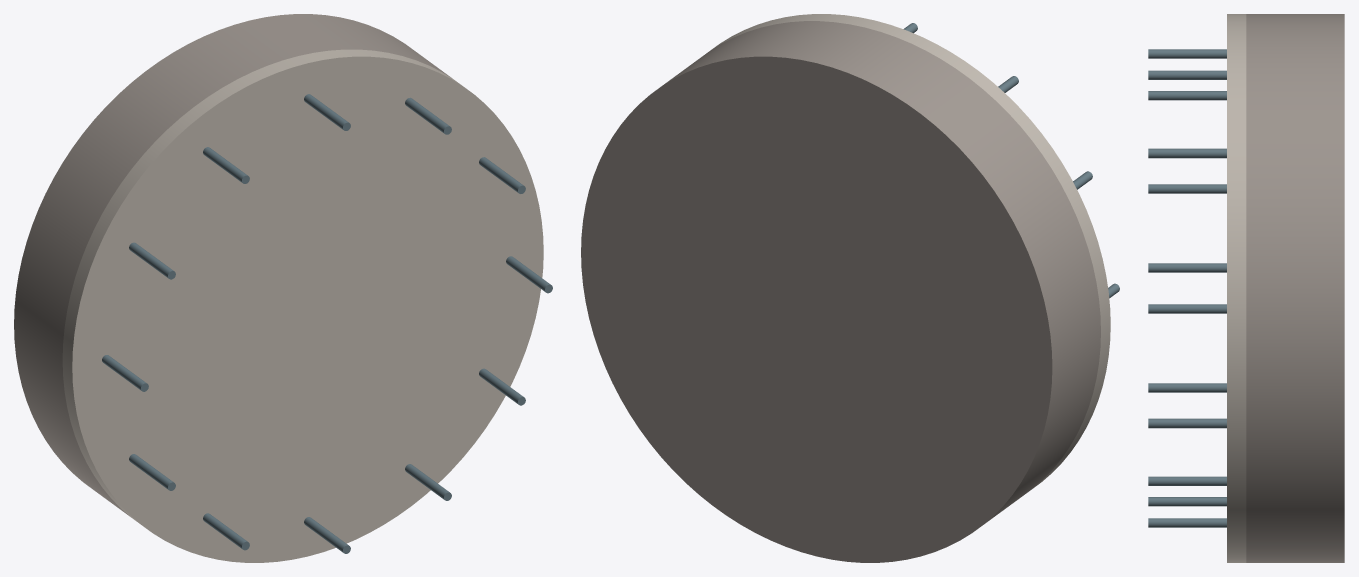
3 renders of one model, left to right at view 1: azimuth 30°, elevation 25°; view 2: azimuth 150°, elevation 25°; view 3: azimuth 270°, elevation 25°, orthographic.
Visible parts, largest first — view 1: 基础_二次浇筑层, 基础_混凝土; view 2: 基础_混凝土, 基础_二次浇筑层; view 3: 基础_混凝土, 基础_二次浇筑层, 地脚螺栓_M24_03, 地脚螺栓_M24_09, 地脚螺栓_M24_01, 地脚螺栓_M24_02, 地脚螺栓_M24_04, 地脚螺栓_M24_05, 地脚螺栓_M24_06, 地脚螺栓_M24_07, 地脚螺栓_M24_08, 地脚螺栓_M24_10 (+2 smaller).
Boxes of the visible parts, bbox=[...] form: 基础_二次浇筑层: bbox=[62, 49, 543, 562]; 基础_混凝土: bbox=[14, 14, 451, 516]; 基础_混凝土: bbox=[581, 21, 1100, 562]; 基础_二次浇筑层: bbox=[711, 14, 1110, 488]; 基础_混凝土: bbox=[1246, 14, 1344, 562]; 基础_二次浇筑层: bbox=[1227, 14, 1246, 562]; 地脚螺栓_M24_03: bbox=[1148, 148, 1226, 158]; 地脚螺栓_M24_09: bbox=[1148, 418, 1226, 428]; 地脚螺栓_M24_01: bbox=[1148, 383, 1226, 392]; 地脚螺栓_M24_02: bbox=[1148, 263, 1226, 272]; 地脚螺栓_M24_04: bbox=[1148, 70, 1226, 79]; 地脚螺栓_M24_05: bbox=[1148, 49, 1226, 58]; 地脚螺栓_M24_06: bbox=[1148, 91, 1226, 100]; 地脚螺栓_M24_07: bbox=[1148, 184, 1226, 193]; 地脚螺栓_M24_08: bbox=[1148, 304, 1226, 313]; 地脚螺栓_M24_10: bbox=[1148, 497, 1226, 506].
Size of the model in its own units: 1.4 by 1.4 by 0.5.
